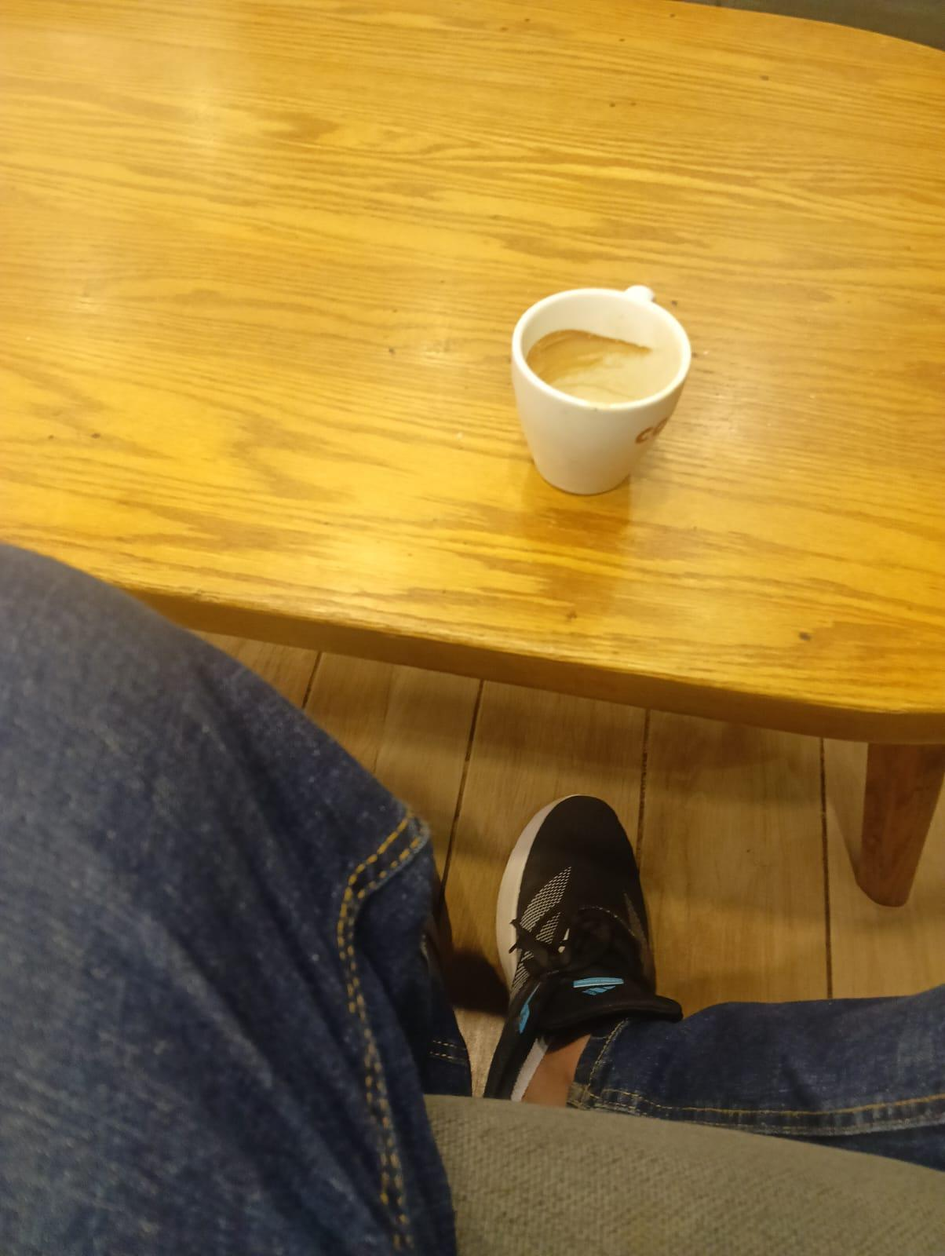cup: (512, 287, 690, 494)
